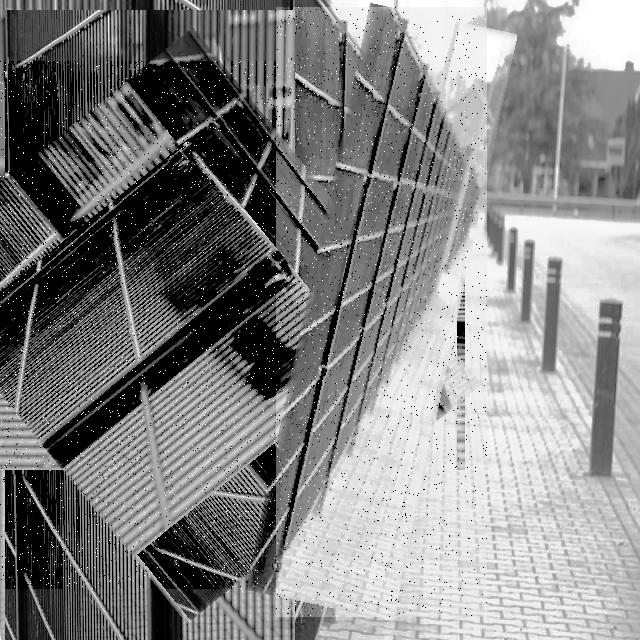fences: (0, 61, 431, 589), (276, 7, 487, 617)
